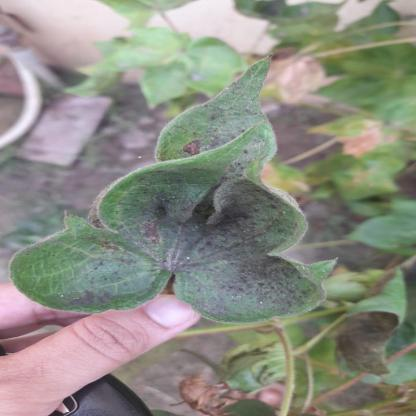curl_stage1: (122, 40, 232, 91)
curl_stage2: (105, 170, 151, 200)
healthy: (22, 250, 101, 288)
sooty: (126, 198, 288, 272), (197, 258, 321, 314), (152, 168, 252, 201), (338, 327, 404, 374), (64, 287, 136, 314), (203, 117, 242, 148)
